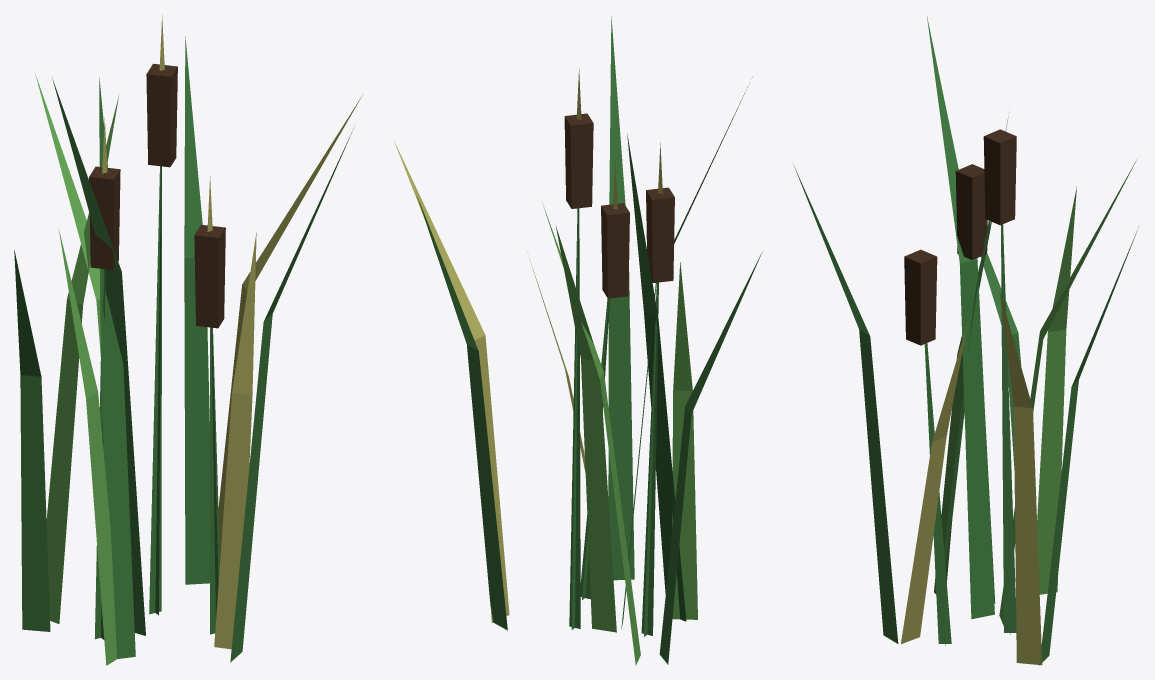
File: reeds.glb
The picture shows the model from 3 angles, left to right: view 1: azimuth 30°, elevation 25°; view 2: azimuth 150°, elevation 25°; view 3: azimuth 270°, elevation 25°; orthographic projection. The views are drawn at different scales.
Parts seen in each view (by area): view 1: reeds__mesh; view 2: reeds__mesh; view 3: reeds__mesh.
Boxes of the visible parts, x1,y1,x2,y2 form: reeds__mesh: (14,15,362,665); reeds__mesh: (394,16,762,665); reeds__mesh: (793,16,1138,665).
Size of the model in its own units: 0.9079 by 1.4 by 0.801.
Materials: 1 (1 with a texture image).
